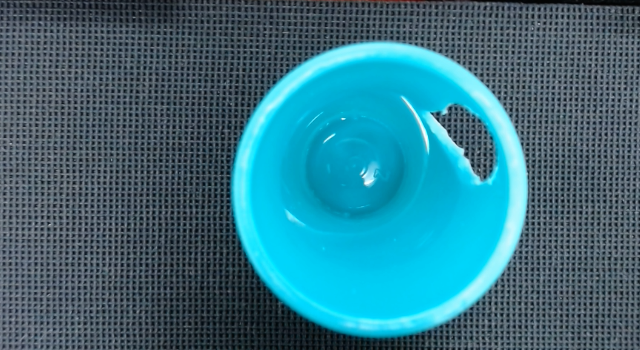hole: (428, 101, 497, 182)
